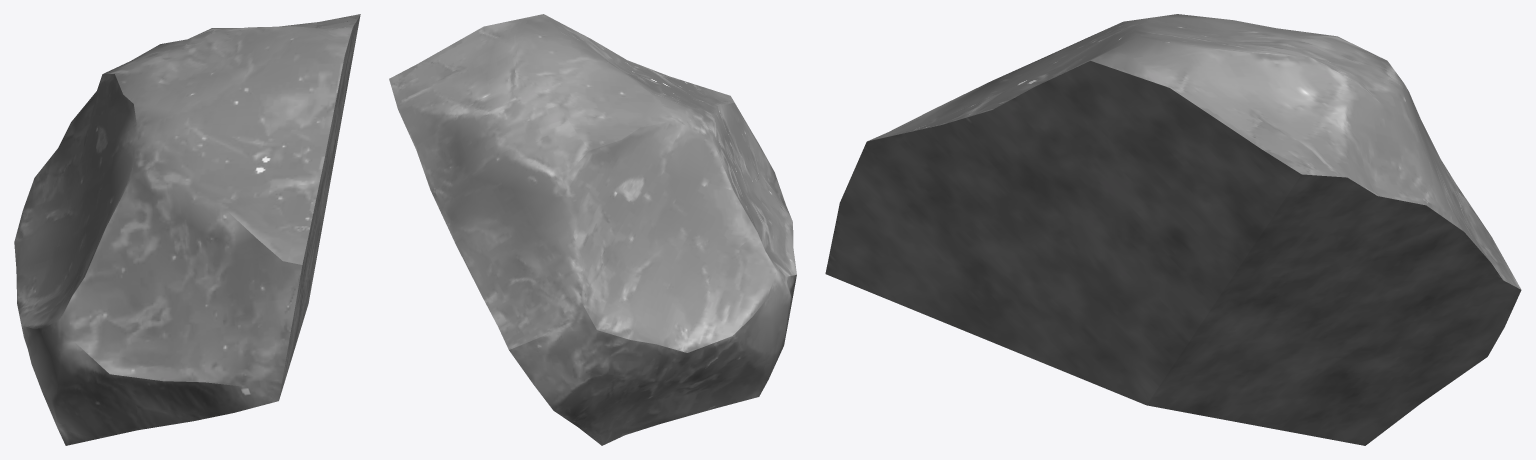
File: frag_01.glb
The picture shows the model from 3 angles, left to right: view 1: azimuth 30°, elevation 25°; view 2: azimuth 150°, elevation 25°; view 3: azimuth 270°, elevation 25°; orthographic projection. The views are drawn at different scales.
Visible parts, largest first — view 1: frag_01; view 2: frag_01; view 3: frag_01.
Boxes of the visible parts, left/top/right/bottom form: frag_01: left=14, top=14, right=360, bottom=445; frag_01: left=389, top=14, right=796, bottom=445; frag_01: left=825, top=14, right=1521, bottom=445.
Size of the model in its own units: 1.54 by 1.45 by 1.83.
1 material, 1 textured.
